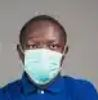with_facemask: (24, 52, 70, 87)
